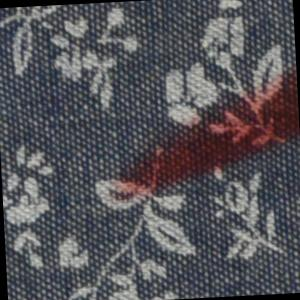Stain: (92, 66, 300, 213)
